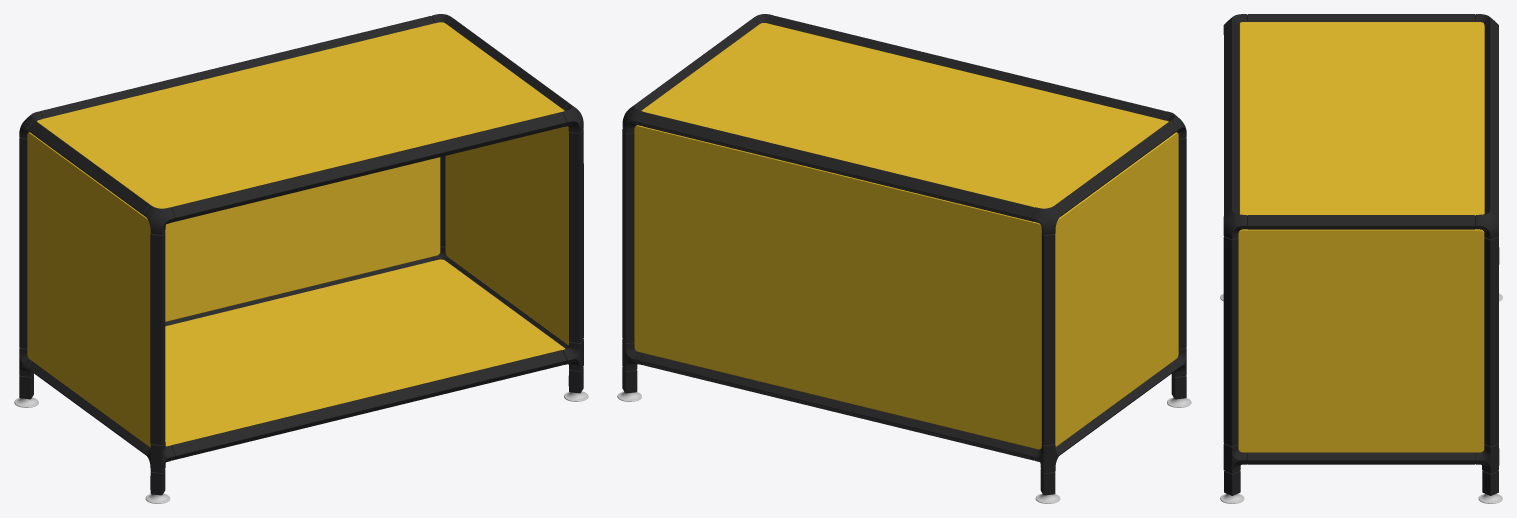
The picture shows the model from 3 angles, left to right: view 1: azimuth 30°, elevation 25°; view 2: azimuth 150°, elevation 25°; view 3: azimuth 270°, elevation 25°; orthographic projection.
Visible parts, largest first — view 1: 729x374x374; view 2: 729x374x374; view 3: 729x374x374.
Boxes of the visible parts, <box> form: 729x374x374: <box>14,14,588,503</box>; 729x374x374: <box>617,14,1191,503</box>; 729x374x374: <box>1220,14,1502,503</box>.
Bounding box in the file's own units: 0.8189 × 0.5133 × 0.4632.
